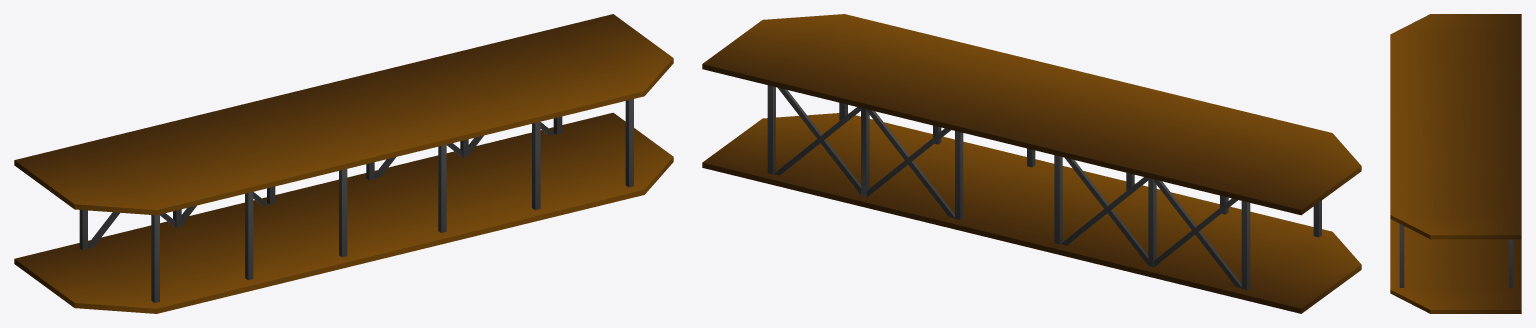
File: avion_base.obj
The picture shows the model from 3 angles, left to right: view 1: azimuth 30°, elevation 25°; view 2: azimuth 150°, elevation 25°; view 3: azimuth 270°, elevation 25°; orthographic projection. The views are drawn at different scales.
Parts seen in each view (by area): view 1: Base; view 2: Base; view 3: Base.
Boxes of the visible parts, left/top/right/bottom form: Base: left=14, top=14, right=673, bottom=313; Base: left=702, top=14, right=1361, bottom=313; Base: left=1390, top=14, right=1521, bottom=313.
Size of the model in its own units: 128 by 21.17 by 32.09.
1 material, 1 textured.
